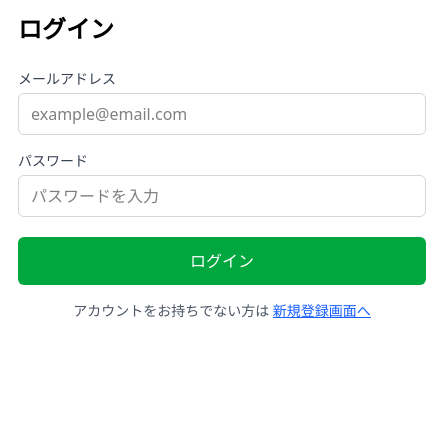
LoginPage › 無効なメール形式でバリデーションエラーが表示される
This screenshot has width=445, height=443.
// 無効なメールアドレスを入力
Step 1. Type "invalid-email" into the field labelled "メールアドレス" → (222,114), box [18,93,426,135]
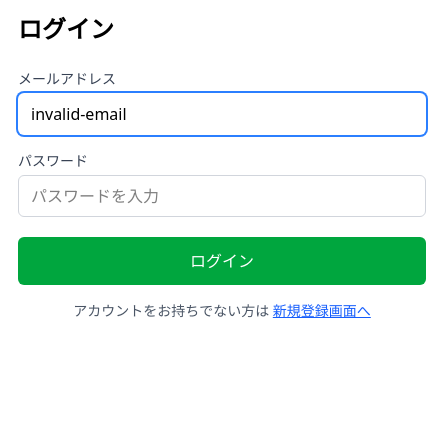
Step 2. Click the button "ログイン" → (222,261), box [18,237,426,285]
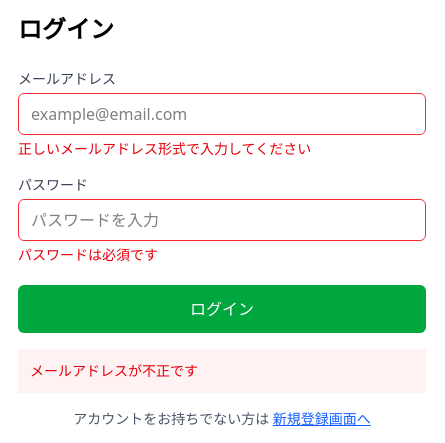
Result: the text with test id "email-error" reads "正しいメールアドレス形式で入力してください" at [18,139,311,158]
